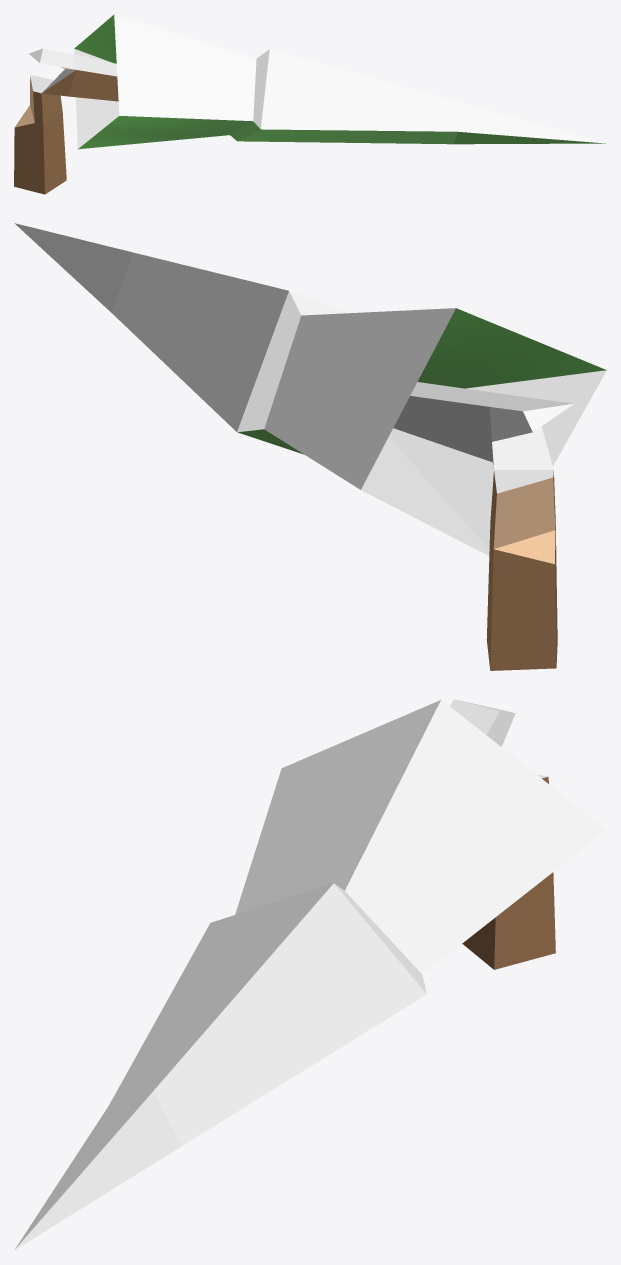
File: Fir_Tree_crk_s_Snow_04.fbx
3 renders of one model, top to bottom at view 1: azimuth 30°, elevation 25°; view 2: azimuth 150°, elevation 25°; view 3: azimuth 270°, elevation 25°, orthographic. The views are drawn at different scales.
Parts seen in each view (by area): view 1: Fir_Tree_crk_s_Snow_04; view 2: Fir_Tree_crk_s_Snow_04; view 3: Fir_Tree_crk_s_Snow_04.
Part boxes in pixels (bbox=[...]): Fir_Tree_crk_s_Snow_04: bbox=[14, 14, 606, 194]; Fir_Tree_crk_s_Snow_04: bbox=[14, 223, 606, 670]; Fir_Tree_crk_s_Snow_04: bbox=[14, 699, 606, 1250].
Bounding box in the file's own units: 126 × 45.13 × 81.37.
